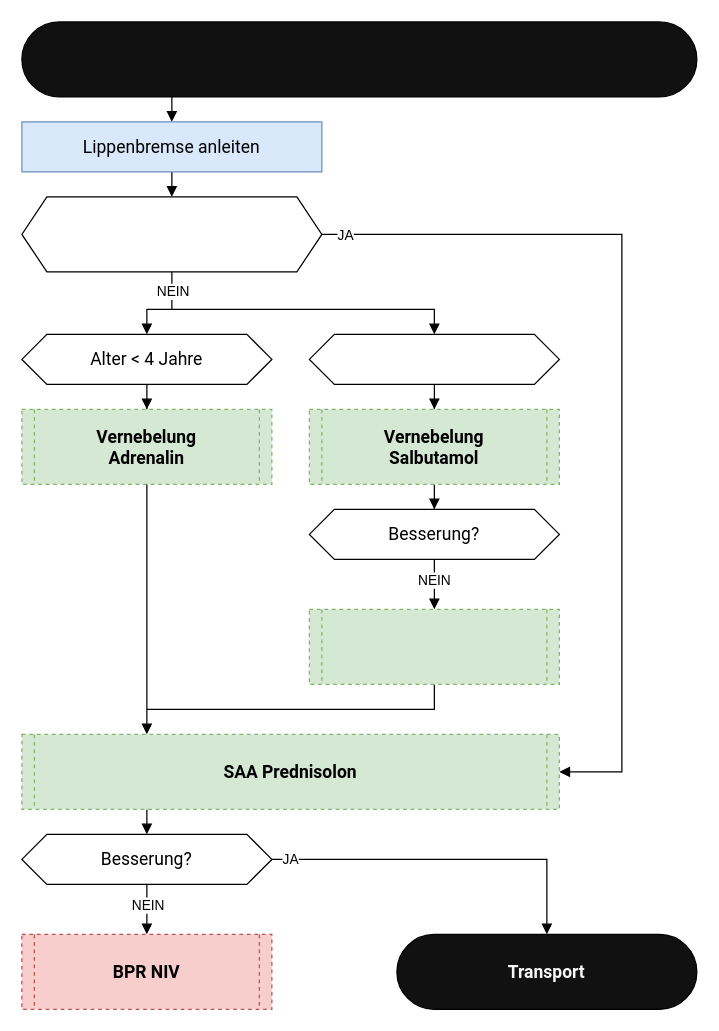
This 719x1031 diagram has some shape labels left out. The shapes that lost their labels are listed below. From the top down, each one's centre as x and y in pixels, then its label:
At (359,59): "Bronchoobstruktion".
At (171,234): "Symptomatische Tachykardie?".
At (433,358): "Alter ≥ 4 Jahre".
At (433,646): "Vernebelung Ipratropiumbr.".
